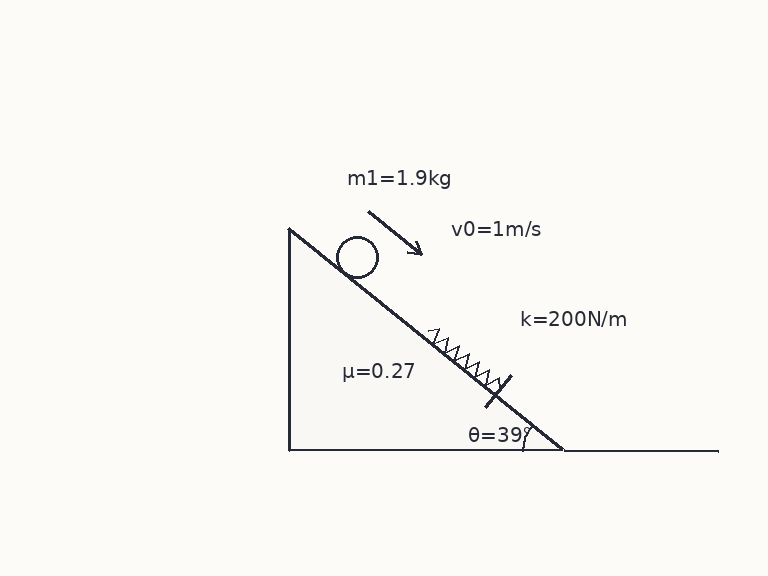ball: (334, 234, 380, 280)
ramp: (287, 227, 565, 453)
spring: (427, 327, 502, 390)
